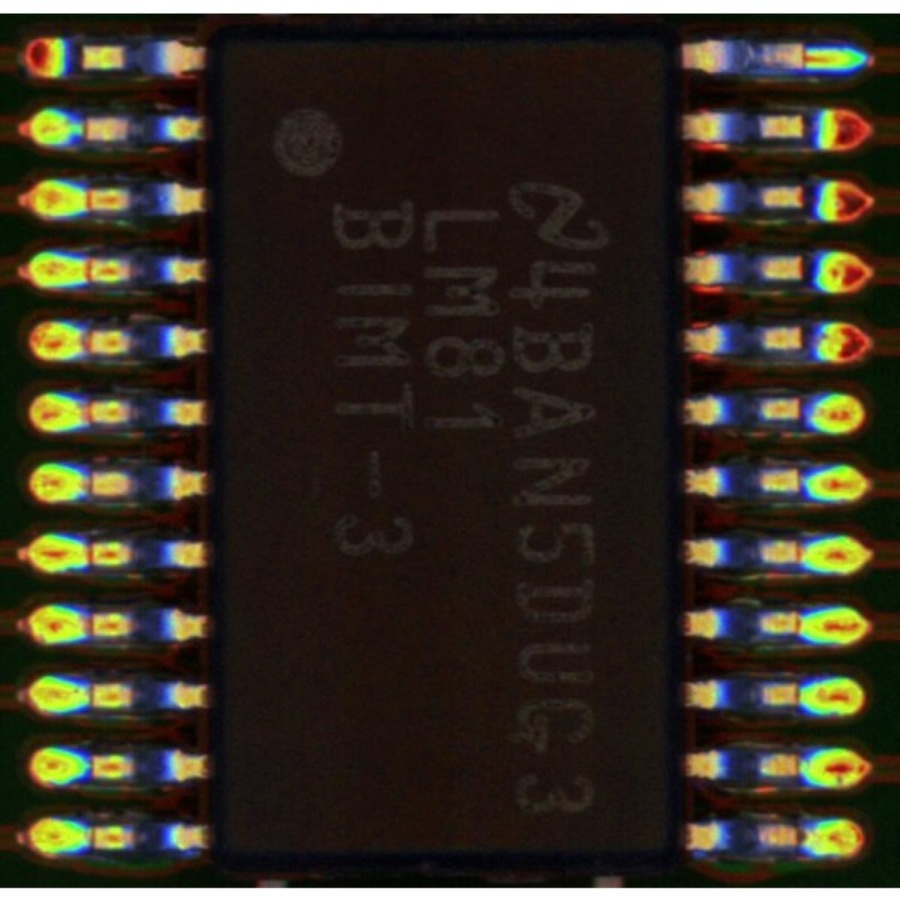Bad_podu: (787, 48, 820, 69)
